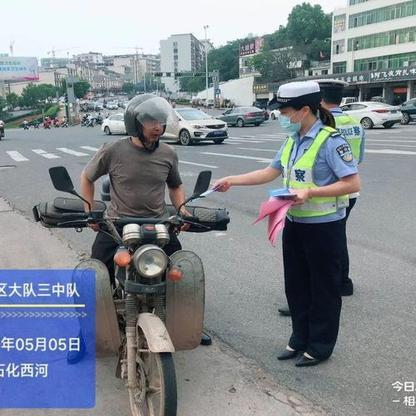target: (58, 91, 233, 413)
